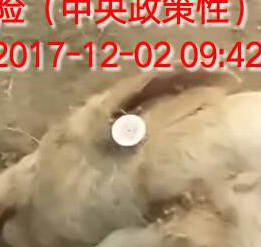text: (100, 102, 157, 156)
